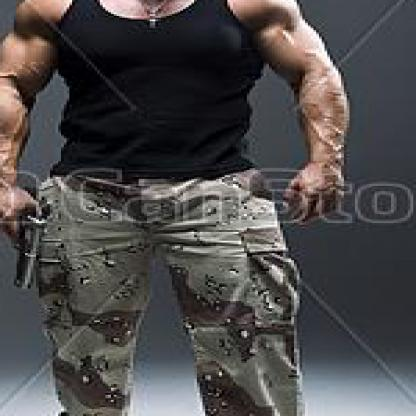gun: (0, 200, 56, 300)
